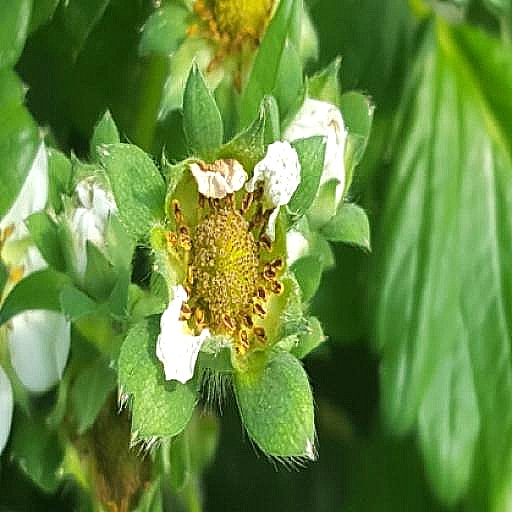Blossom Blight: (226, 178, 352, 359)
